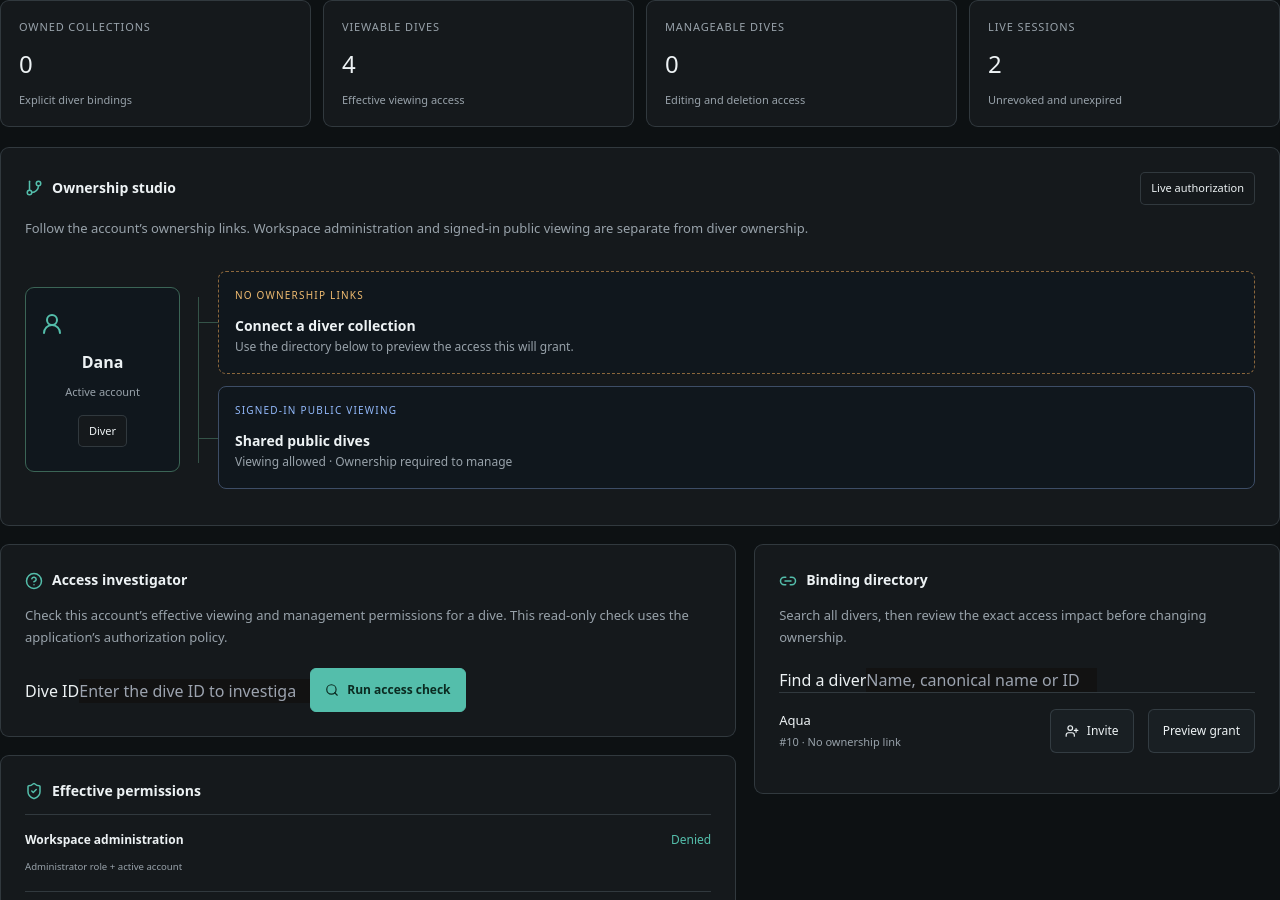
Test: Production Studio › refreshes changed impact and requires a new confirmation
The image size is (1280, 900).
Click the button "Preview grant" at coordinates (1201, 731), box [1148,709,1255,753]
(page scrolled)
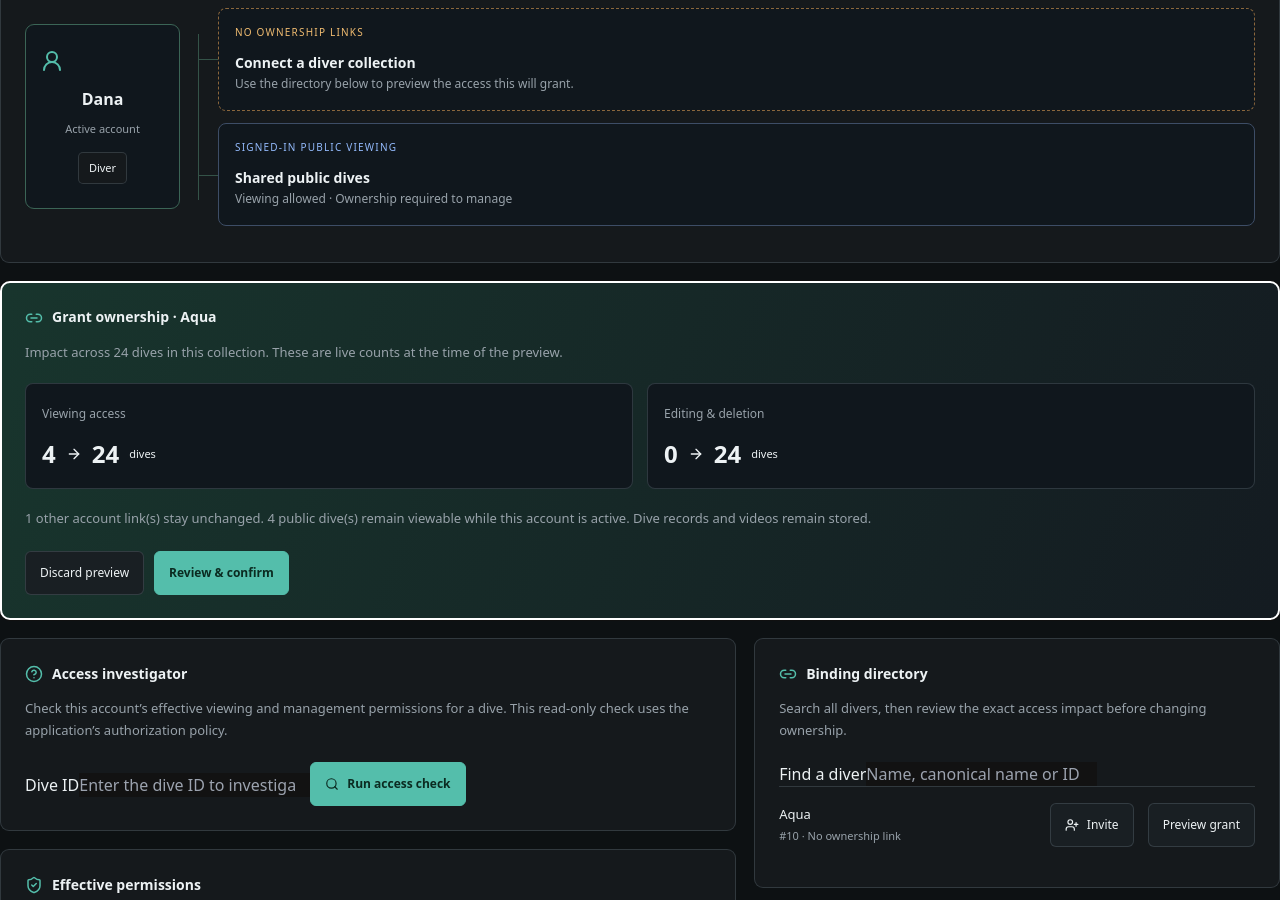
Click the button "Review & confirm" at coordinates (221, 573), box [154,551,289,595]
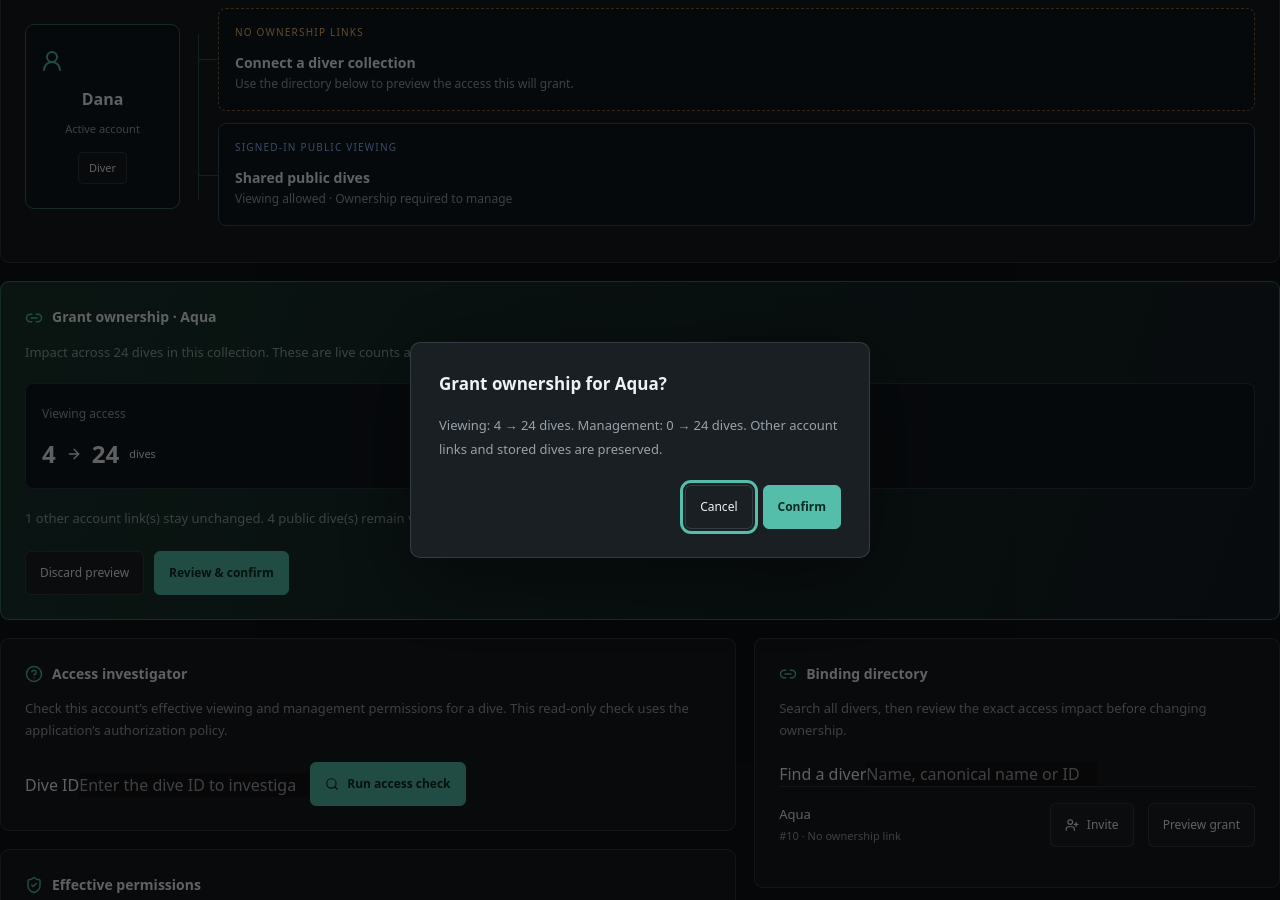
Click the button "Confirm" at coordinates (802, 507), box [762,485,841,529]
(page scrolled)
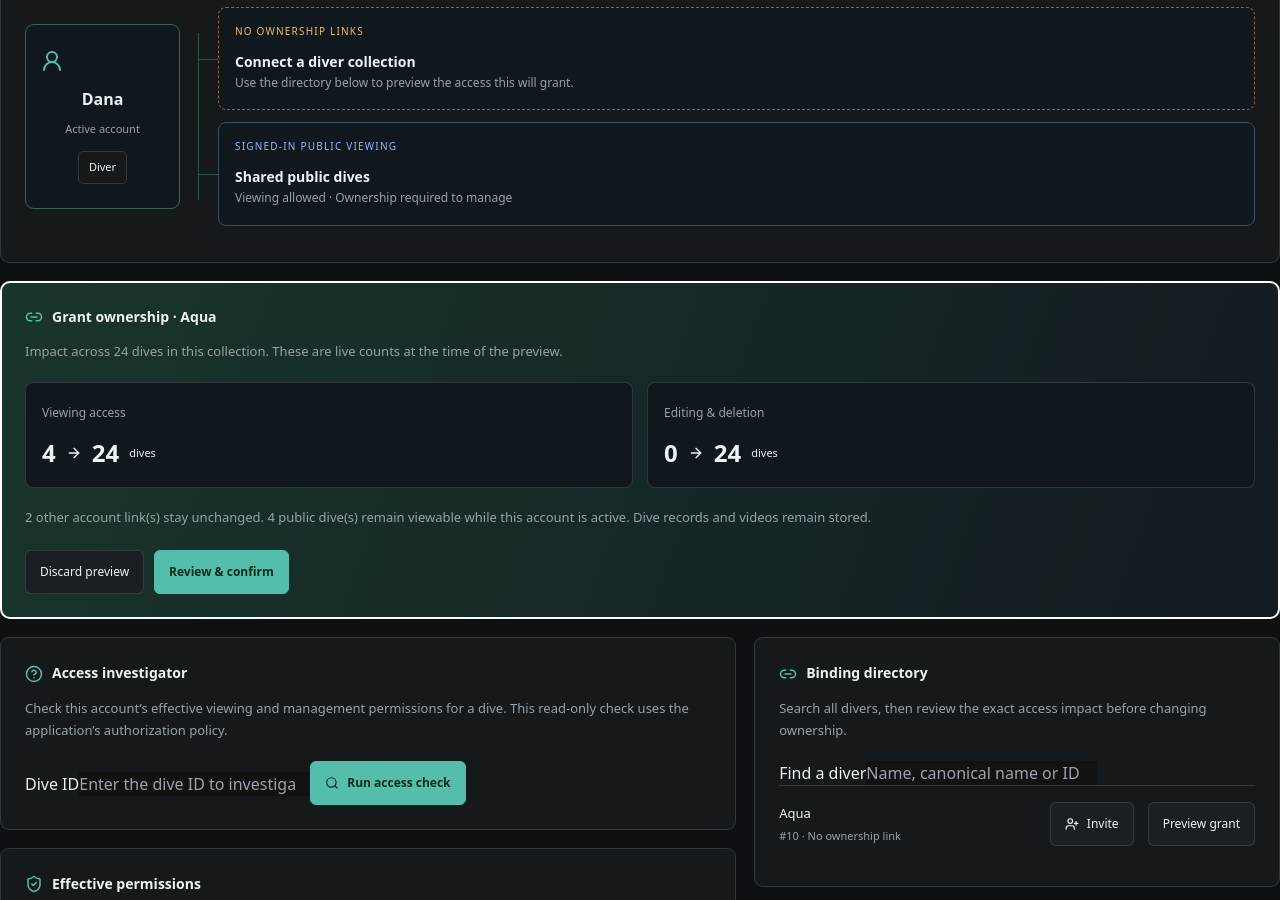
Expected: the dialog is gone
Expected: the element named "Ownership change preview" shows "2 other account", [0,281,1279,620]
